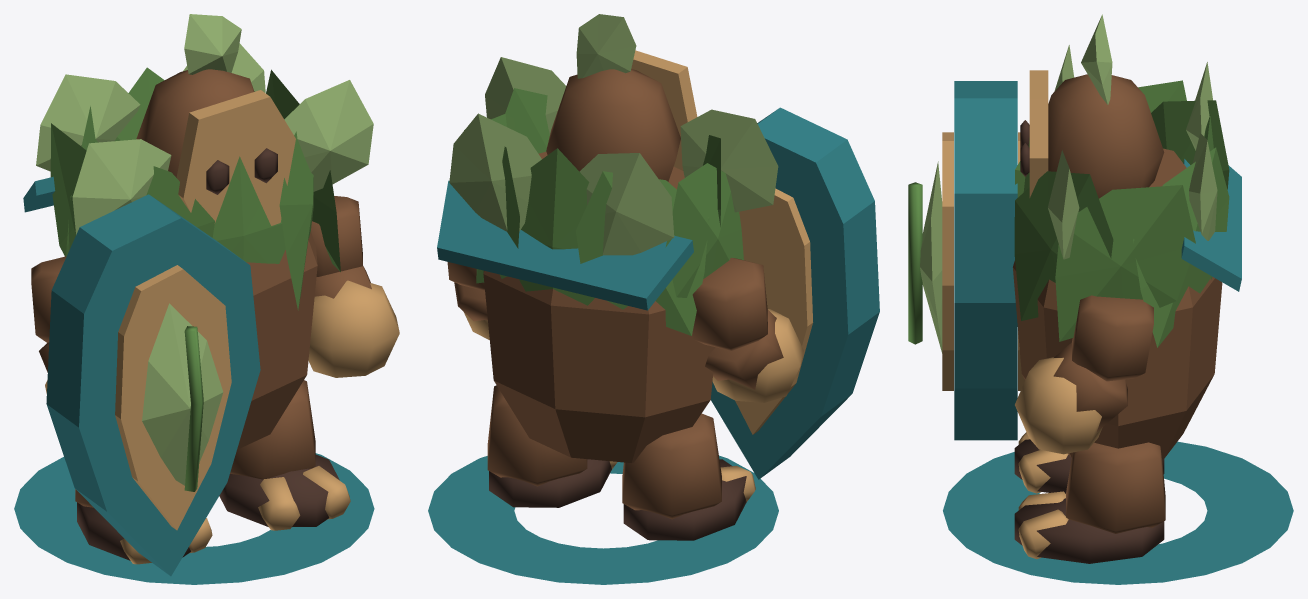
File: mossguard.glb
3 renders of one model, left to right at view 1: azimuth 30°, elevation 25°; view 2: azimuth 150°, elevation 25°; view 3: azimuth 270°, elevation 25°, orthographic. The views are drawn at different scales.
Parts seen in each view (by area): view 1: ME_CM_R1_mossguard_tall_team_bough_rim, ME_CM_R1_mossguard_mantle, ME_CM_R1_mossguard_river_ground_mark, ME_CM_R1_mossguard_heartwood_shield_front, ME_CM_R1_mossguard_heartwood_mask, ME_CM_R1_mossguard_bough_trunk, ME_CM_R1_mossguard_one_pressed_leaf, ME_CM_R1_mossguard_right_root_fist, ME_CM_R1_mossguard_large_collar_leaf_1, ME_CM_R1_mossguard_large_collar_leaf_0, ME_CM_R1_mossguard_carved_bough_head, ME_CM_R1_mossguard_large_collar_leaf_2 (+14 smaller); view 2: ME_CM_R1_mossguard_bough_trunk, ME_CM_R1_mossguard_tall_team_bough_rim, ME_CM_R1_mossguard_mantle, ME_CM_R1_mossguard_river_ground_mark, ME_CM_R1_mossguard_team_trail_sash, ME_CM_R1_mossguard_carved_bough_head, ME_CM_R1_mossguard_heartwood_shield_back, ME_CM_R1_mossguard_left_stump, ME_CM_R1_mossguard_large_collar_leaf_3, ME_CM_R1_mossguard_large_collar_leaf_2, ME_CM_R1_mossguard_large_collar_leaf_0, ME_CM_R1_mossguard_left_upper_bough (+10 smaller); view 3: ME_CM_R1_mossguard_mantle, ME_CM_R1_mossguard_tall_team_bough_rim, ME_CM_R1_mossguard_river_ground_mark, ME_CM_R1_mossguard_bough_trunk, ME_CM_R1_mossguard_carved_bough_head, ME_CM_R1_mossguard_right_stump, ME_CM_R1_mossguard_right_upper_bough, ME_CM_R1_mossguard_right_root_fist, ME_CM_R1_mossguard_right_root_foot, ME_CM_R1_mossguard_team_trail_sash, ME_CM_R1_mossguard_heartwood_shield_front, ME_CM_R1_mossguard_one_pressed_leaf (+10 smaller).
Boxes of the visible parts, x1,y1,x2,y2 form: ME_CM_R1_mossguard_tall_team_bough_rim: (46, 194, 260, 576); ME_CM_R1_mossguard_mantle: (50, 67, 340, 310); ME_CM_R1_mossguard_river_ground_mark: (14, 453, 374, 584); ME_CM_R1_mossguard_heartwood_shield_front: (115, 265, 231, 530); ME_CM_R1_mossguard_heartwood_mask: (176, 90, 295, 225); ME_CM_R1_mossguard_bough_trunk: (237, 231, 317, 449); ME_CM_R1_mossguard_one_pressed_leaf: (142, 303, 223, 485); ME_CM_R1_mossguard_right_root_fist: (308, 280, 399, 377); ME_CM_R1_mossguard_large_collar_leaf_1: (284, 80, 373, 191); ME_CM_R1_mossguard_large_collar_leaf_0: (72, 139, 171, 234); ME_CM_R1_mossguard_carved_bough_head: (136, 69, 254, 177); ME_CM_R1_mossguard_large_collar_leaf_2: (36, 74, 140, 171); ME_CM_R1_mossguard_bough_trunk: (483, 152, 715, 462); ME_CM_R1_mossguard_tall_team_bough_rim: (710, 107, 879, 479); ME_CM_R1_mossguard_mantle: (464, 88, 743, 335); ME_CM_R1_mossguard_river_ground_mark: (428, 455, 778, 584); ME_CM_R1_mossguard_team_trail_sash: (437, 180, 693, 310); ME_CM_R1_mossguard_carved_bough_head: (546, 69, 680, 181); ME_CM_R1_mossguard_heartwood_shield_back: (735, 188, 813, 434); ME_CM_R1_mossguard_left_stump: (622, 413, 721, 519); ME_CM_R1_mossguard_large_collar_leaf_3: (449, 113, 541, 231); ME_CM_R1_mossguard_large_collar_leaf_2: (579, 153, 674, 255); ME_CM_R1_mossguard_large_collar_leaf_0: (680, 109, 778, 212); ME_CM_R1_mossguard_left_upper_bough: (692, 257, 767, 350); ME_CM_R1_mossguard_mantle: (1014, 80, 1229, 347); ME_CM_R1_mossguard_tall_team_bough_rim: (954, 81, 1017, 440); ME_CM_R1_mossguard_river_ground_mark: (943, 441, 1293, 584); ME_CM_R1_mossguard_bough_trunk: (1012, 148, 1222, 459); ME_CM_R1_mossguard_carved_bough_head: (1048, 74, 1164, 198); ME_CM_R1_mossguard_right_stump: (1066, 442, 1165, 533); ME_CM_R1_mossguard_right_upper_bough: (1072, 295, 1153, 381); ME_CM_R1_mossguard_right_root_fist: (1015, 357, 1102, 454); ME_CM_R1_mossguard_right_root_foot: (1014, 492, 1164, 563); ME_CM_R1_mossguard_team_trail_sash: (1181, 159, 1241, 291); ME_CM_R1_mossguard_heartwood_shield_front: (942, 132, 953, 390); ME_CM_R1_mossguard_one_pressed_leaf: (920, 161, 942, 353).
Size of the model in its own units: 1.46 by 1.92 by 1.34.
